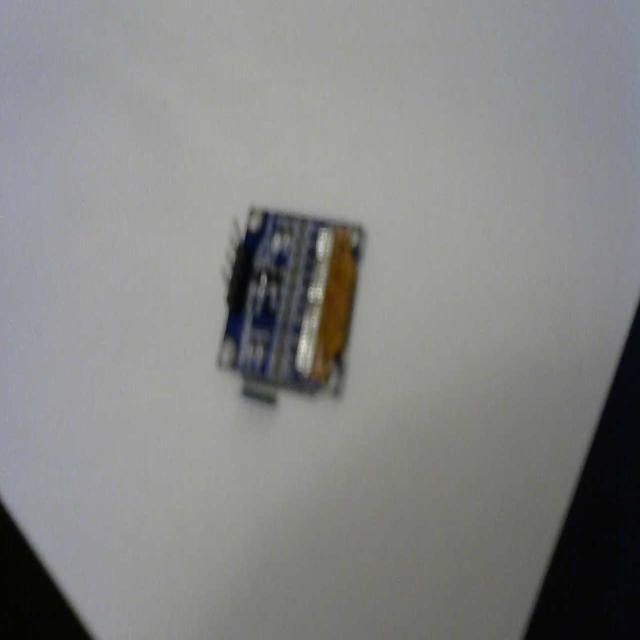oled: (213, 192, 373, 419)
